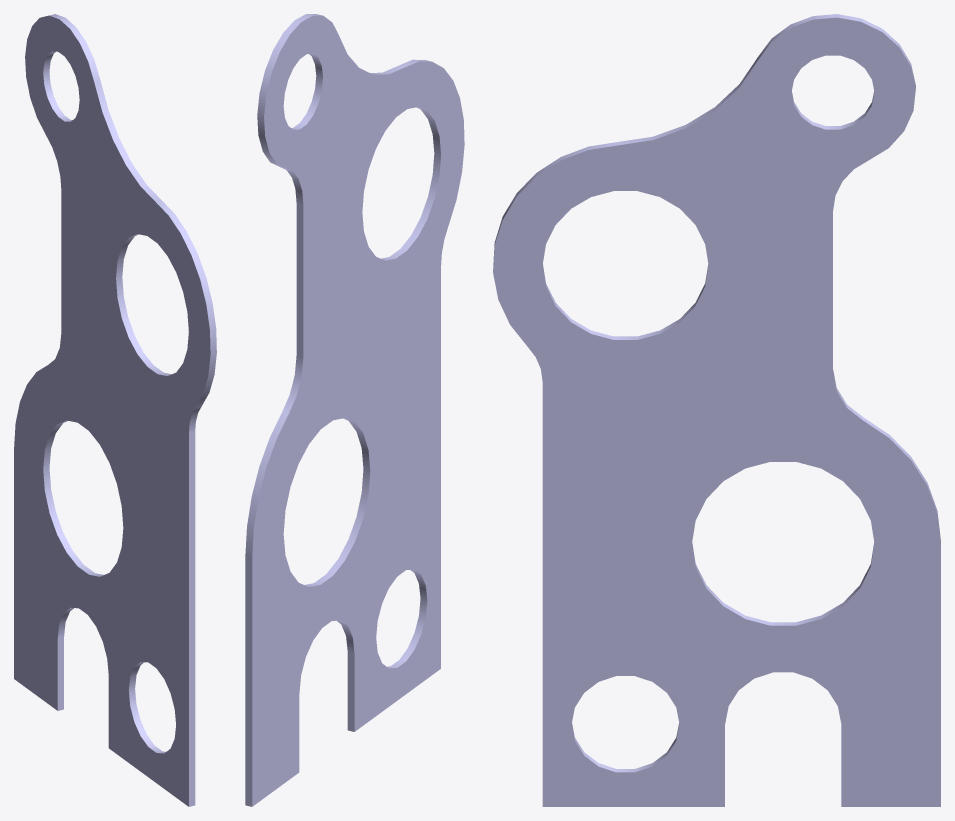
File: 8 Housing 01.fbx
3 views of the same model, side by side, from view 1: azimuth 30°, elevation 25°; view 2: azimuth 150°, elevation 25°; view 3: azimuth 270°, elevation 25° (orthographic). The views are drawn at different scales.
Parts seen in each view (by area): view 1: PartBody; view 2: PartBody; view 3: PartBody.
Boxes of the visible parts, x1,y1,x2,y2 form: PartBody: (14, 14, 216, 806); PartBody: (245, 14, 464, 806); PartBody: (493, 14, 940, 806).
Bounding box in the file's own units: 0.0787 × 8.27 × 4.25.
